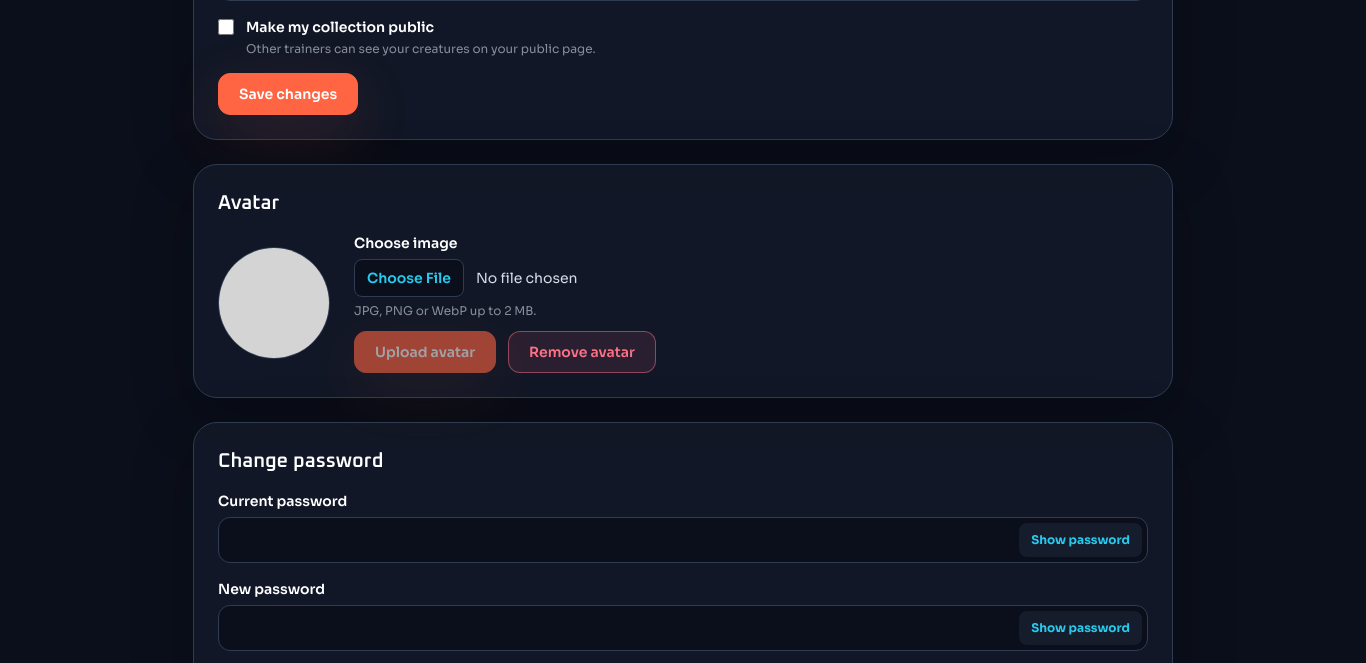
Scenario: EditProfilePage › only offers avatar removal when an avatar exists, and removes it through the API
(page scrolled)
Click the button "Remove avatar" at (582, 352), box [508, 331, 656, 373]
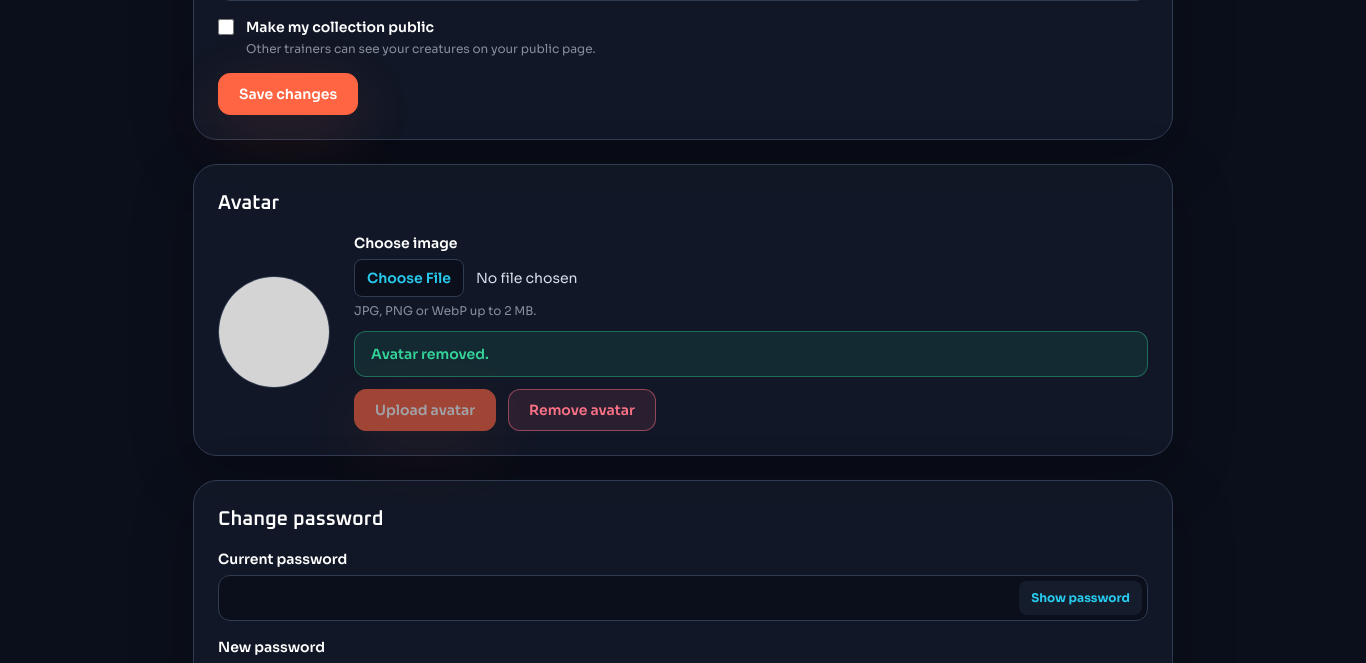
Now the text "Avatar removed." is shown, box [354, 331, 1148, 377]
